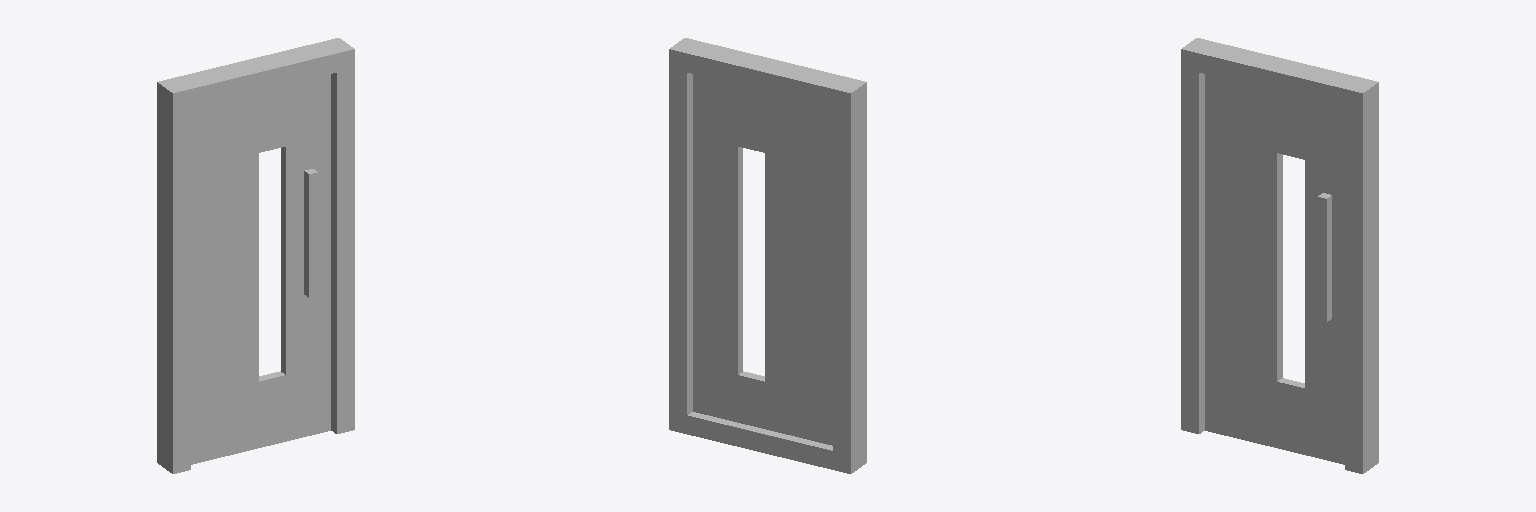
File: door.obj
3 renders of one model, left to right at view 1: azimuth 30°, elevation 25°; view 2: azimuth 150°, elevation 25°; view 3: azimuth 330°, elevation 25°, orthographic.
Visible parts, largest first — view 1: object 1; view 2: object 1; view 3: object 1.
Part boxes in pixels (left/top/right/bottom): object 1: left=157, top=38, right=354, bottom=473; object 1: left=669, top=38, right=866, bottom=473; object 1: left=1181, top=38, right=1378, bottom=473.
Size of the model in its own units: 2 by 4 by 0.3.